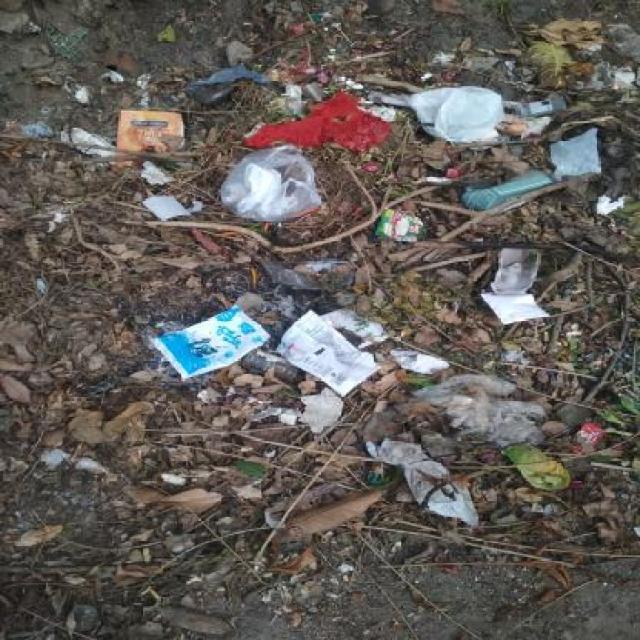garbage: (111, 73, 617, 306), (131, 306, 620, 502)
